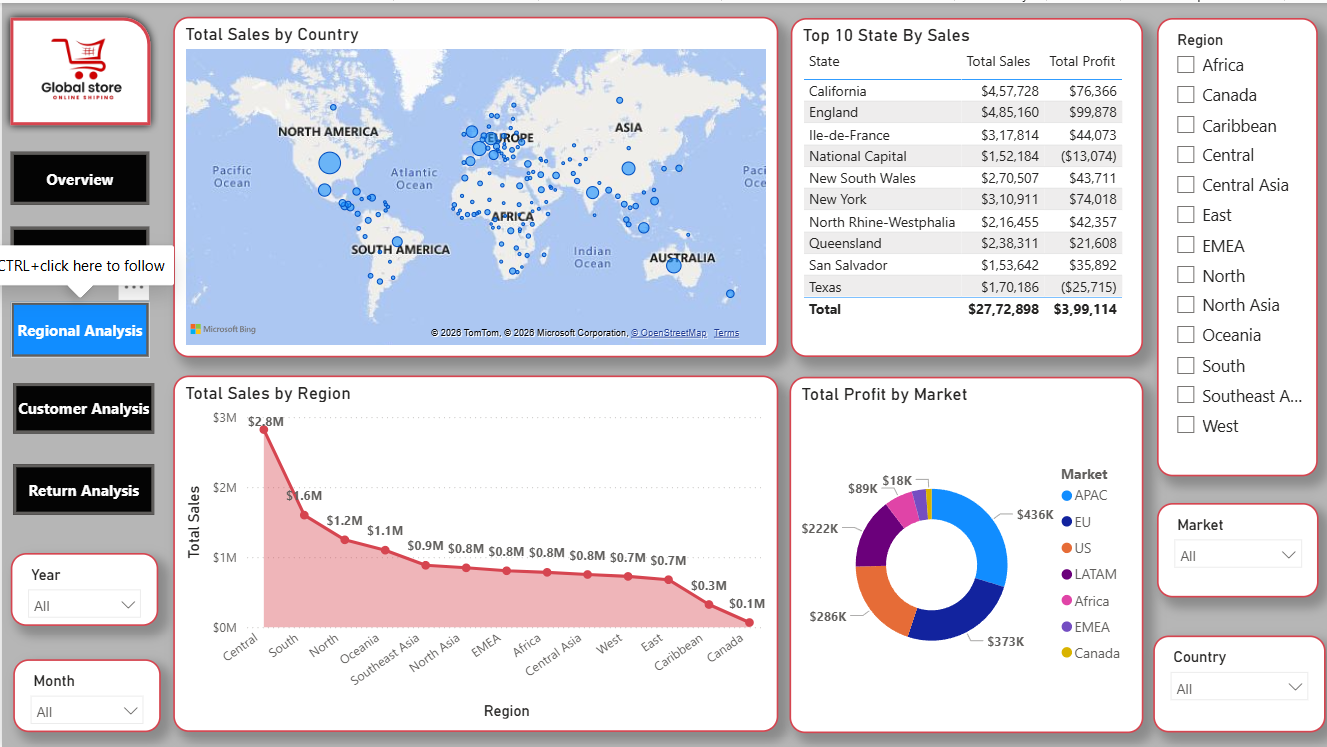

What the dashboard file says about the page in this screenshot:
{"tool":"powerbi","page":{"name":"Regional Analysis","canvas":[1280,720],"ordinal":2},"visuals":[{"type":"actionButton","box":[8.8,216.2,133.8,51.2],"z":0},{"type":"actionButton","box":[8.8,288.8,133.8,53.8],"z":1000},{"type":"actionButton","box":[11.2,366.2,136.2,48.8],"z":2000},{"type":"actionButton","box":[8.8,143.8,133.8,51.2],"z":3000},{"type":"shape","box":[0,6.2,151.2,120],"z":4000},{"type":"image","box":[11.2,15,131.2,100],"z":5000},{"type":"slicer","fields":{"Values":["Orders.Order Date.Variation.Date Hierarchy.Year"]},"box":[8.8,531.2,142.5,70],"z":6000},{"type":"slicer","fields":{"Values":["Orders.Order Date.Variation.Date Hierarchy.Month"]},"box":[11.2,633.8,142.5,70],"z":7000},{"type":"actionButton","box":[11.2,445,136.2,48.8],"z":8000},{"type":"map","fields":{"Category":["Orders.Country"],"Size":["Orders.Total Sales"]},"box":[165,13.8,583.8,328.8],"z":9000},{"type":"tableEx","title":"Top 10 State By Sales","fields":{"Values":["Orders.State","Orders.Total Sales","Orders.Total Profit"]},"box":[761.2,15,340,327.5],"z":10000},{"type":"lineChart","fields":{"Y":["Orders.Total Sales"],"Category":["Orders.Region"]},"box":[165,360,583.8,343.8],"z":11000},{"type":"donutChart","fields":{"Y":["Orders.Total Profit"],"Category":["Orders.Market"]},"box":[760,361.2,341.2,343.8],"z":12000},{"type":"slicer","fields":{"Values":["Orders.Region"]},"box":[1115,15,155,442.5],"z":13000},{"type":"slicer","fields":{"Values":["Orders.Market"]},"box":[1115,482.5,156.2,91.2],"z":14000},{"type":"slicer","fields":{"Values":["Orders.Country"]},"box":[1111.2,610,166.2,93.8],"z":15000}]}

Visuals, with their boxes in screenshot pixels (x1, y1, x2, y2), scaled from the page's 1280x720 canvas onto the 1327x747 screenshot:
actionButton: crop(9, 224, 148, 277)
actionButton: crop(9, 300, 148, 355)
actionButton: crop(12, 380, 153, 431)
actionButton: crop(9, 149, 148, 202)
shape: crop(0, 6, 157, 131)
image: crop(12, 16, 148, 119)
slicer - Orders.Order Date.Variation.Date Hierarchy.Year: crop(9, 551, 157, 624)
slicer - Orders.Order Date.Variation.Date Hierarchy.Month: crop(12, 658, 159, 730)
actionButton: crop(12, 462, 153, 512)
map - Orders.Country x Orders.Total Sales: crop(171, 14, 776, 355)
"Top 10 State By Sales" tableEx: crop(789, 16, 1142, 355)
lineChart - Orders.Total Sales x Orders.Region: crop(171, 374, 776, 730)
donutChart - Orders.Total Profit x Orders.Market: crop(788, 375, 1142, 731)
slicer - Orders.Region: crop(1156, 16, 1317, 475)
slicer - Orders.Market: crop(1156, 501, 1318, 595)
slicer - Orders.Country: crop(1152, 633, 1324, 730)
